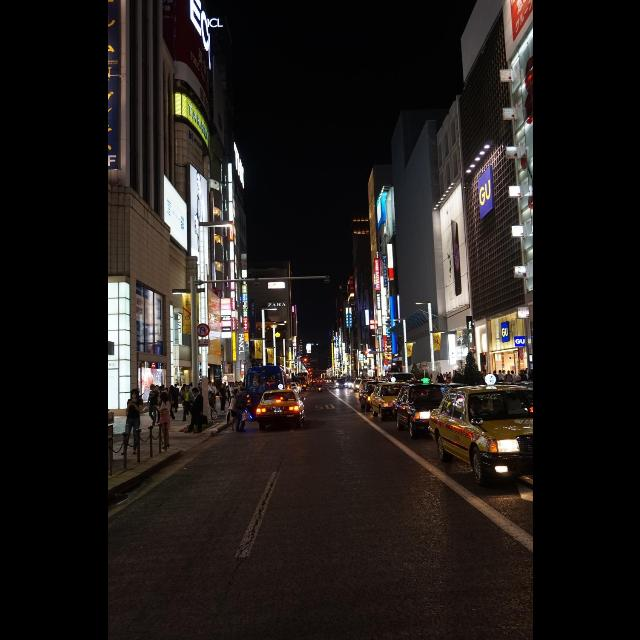head: (130, 389, 138, 399), (191, 388, 199, 397), (160, 392, 168, 401), (239, 386, 245, 394), (233, 388, 239, 396), (184, 386, 190, 392), (149, 385, 155, 391), (168, 386, 174, 390), (164, 388, 168, 394), (154, 386, 158, 390), (498, 371, 502, 374), (210, 383, 213, 387), (222, 384, 224, 388), (526, 368, 528, 372), (494, 371, 496, 374), (508, 371, 510, 374), (512, 371, 514, 374), (522, 371, 524, 374)
person: (119, 388, 143, 456), (181, 388, 203, 434), (157, 392, 171, 450), (224, 388, 242, 432), (233, 387, 249, 433), (144, 384, 160, 426), (160, 387, 176, 421), (180, 384, 194, 422), (152, 385, 162, 425), (166, 385, 177, 415), (217, 383, 227, 412), (207, 382, 217, 411), (511, 370, 522, 390), (518, 369, 528, 391), (496, 369, 504, 391), (506, 370, 512, 392), (492, 370, 498, 390), (524, 368, 530, 388)
